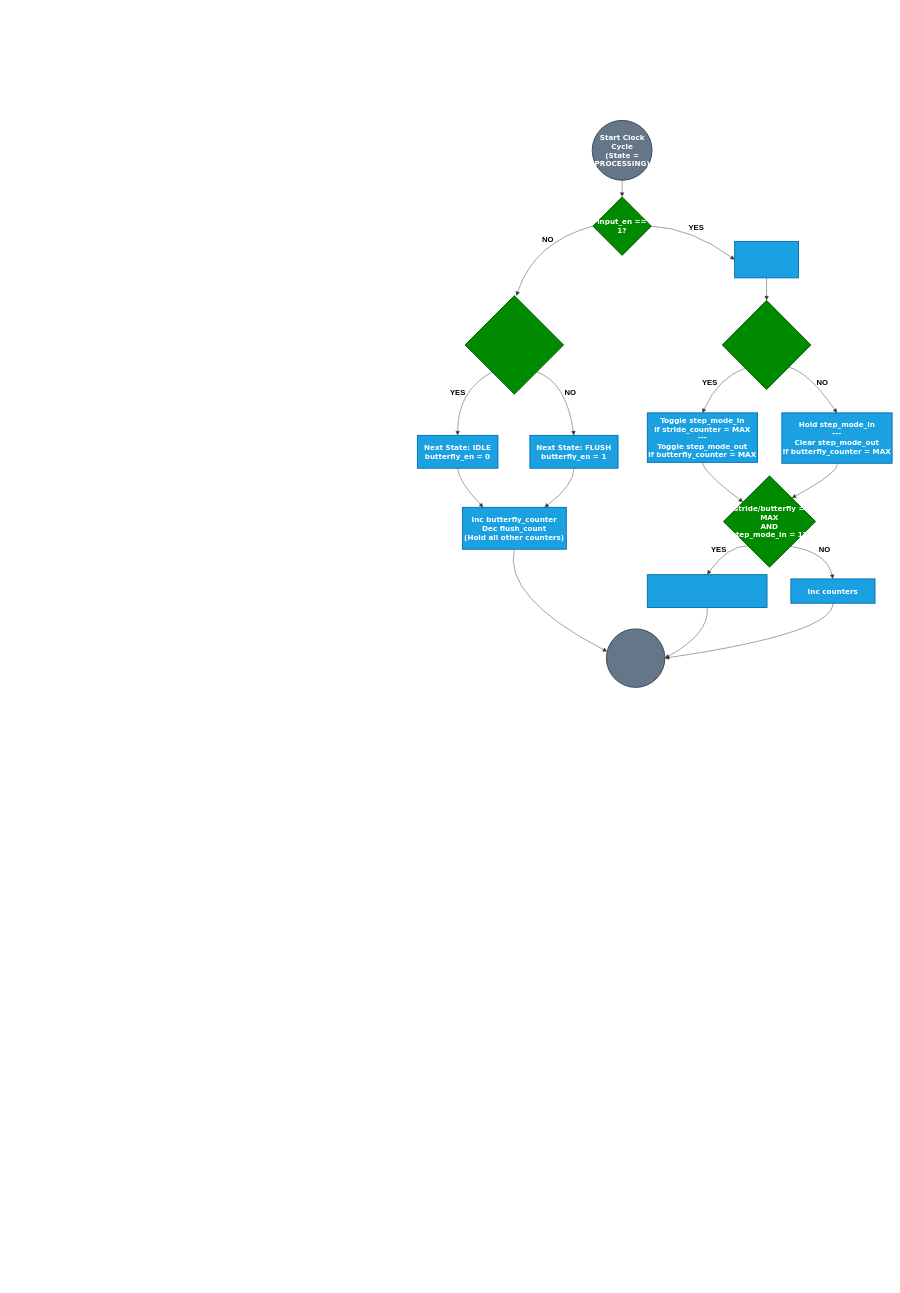
The diagram is 900 pixels wide and 1293 high, and some of its shapes have lost their labels. Here are the shapes that lost their labels. From the top down, the centre of each, then its label:
point 766,259: butterfly_en = 1 Inc input_count Dec flush_count
point 514,344: flush_count == 0?
point 766,345: step_mode_input == 0?
point 707,591: stride/butter_counter = XOR Wrap (Reset lower bits)
point 635,658: End Clock Cycle
